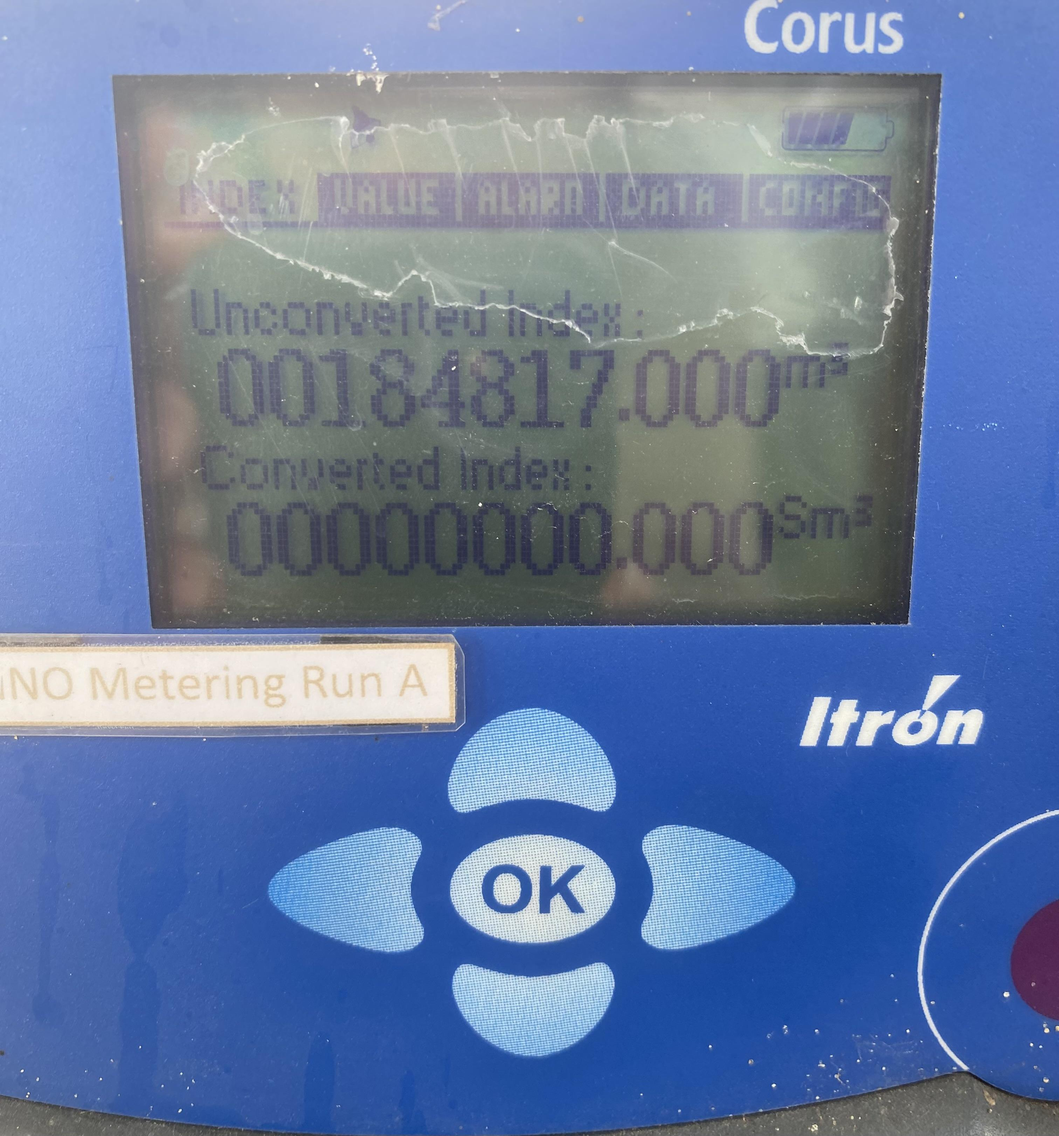digital_screen: (110, 77, 941, 628)
